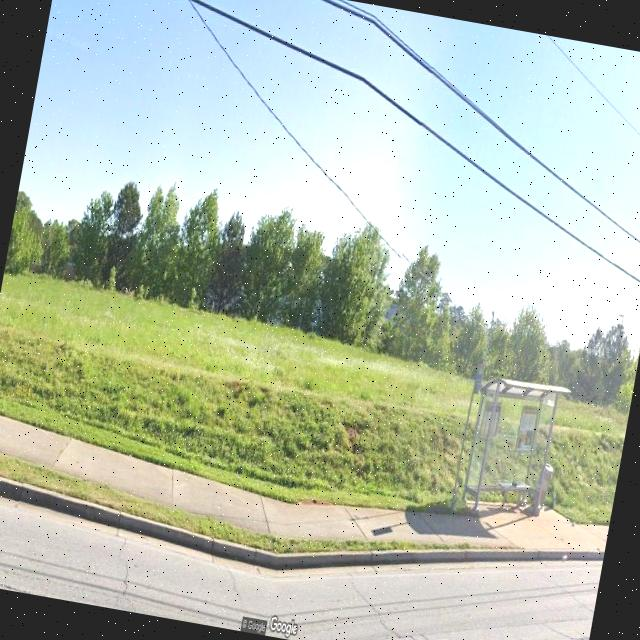seating: (492, 476, 531, 514)
shelter: (451, 369, 570, 531)
trash_can: (535, 462, 555, 512)
